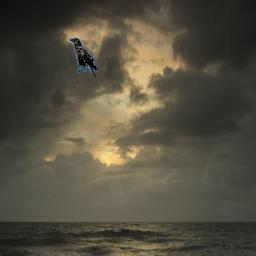Crow: (68, 37, 98, 77)
